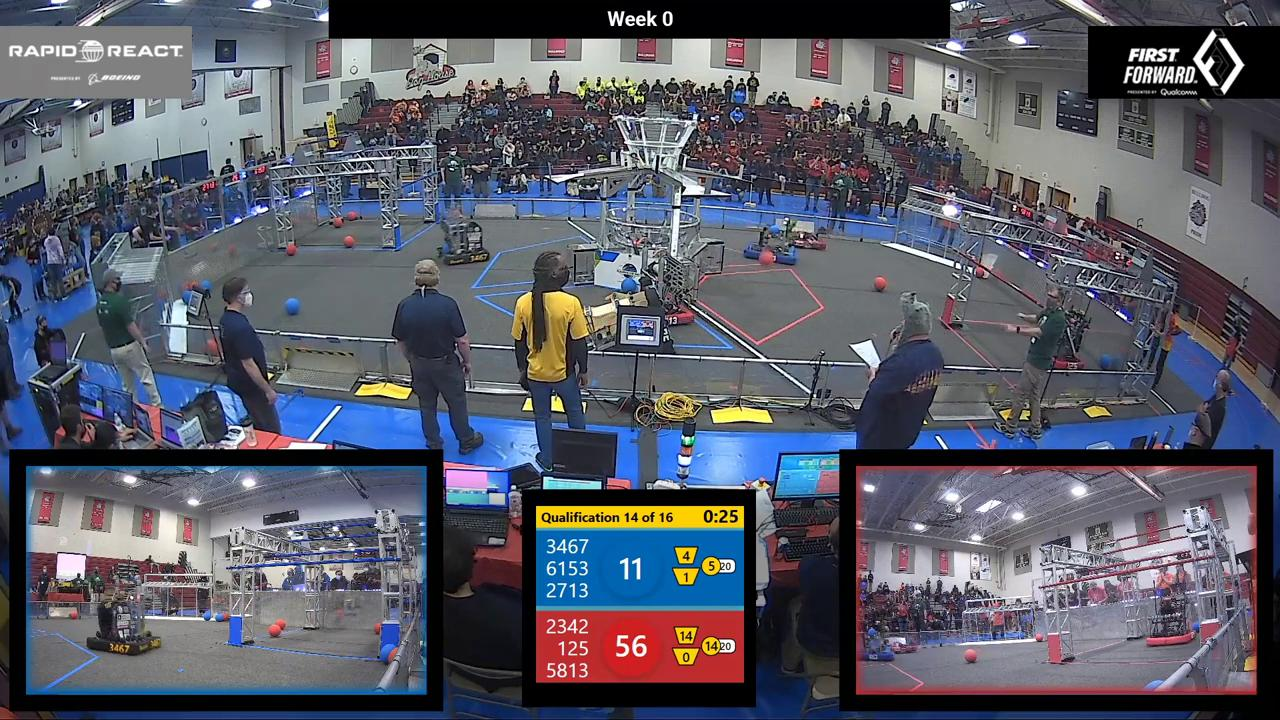robot: (1145, 610, 1192, 645), (863, 635, 894, 662), (797, 224, 828, 248), (887, 631, 918, 654), (1057, 342, 1082, 370), (774, 239, 797, 262), (743, 238, 756, 258)
